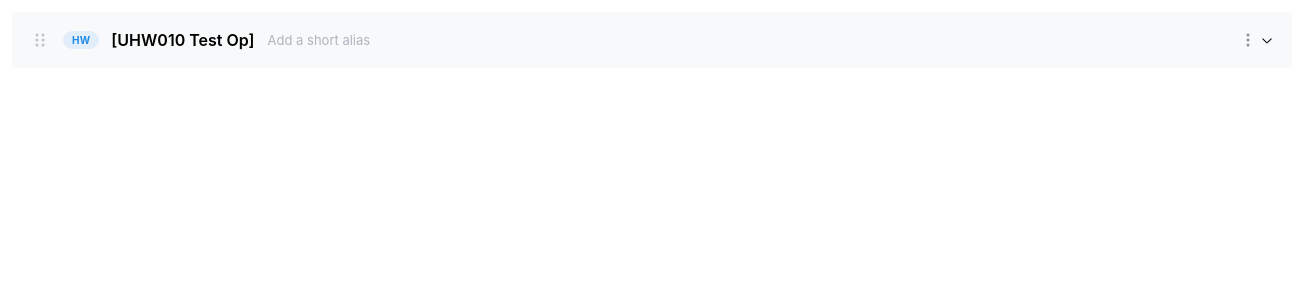
Test: UnitOpAccordion + opDescription editing › shows the current opDescription as the input value
Click the button "HW [UHW010 Test Op]". click: (652, 40)
box: [13,13,1291,67]
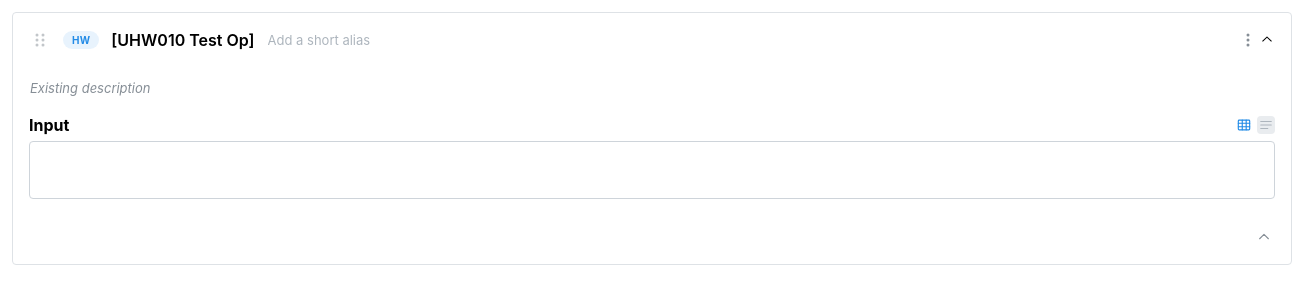
Expected: the 1st text box with placeholder "Add description" holds "Existing description", [29,72,1275,103]
